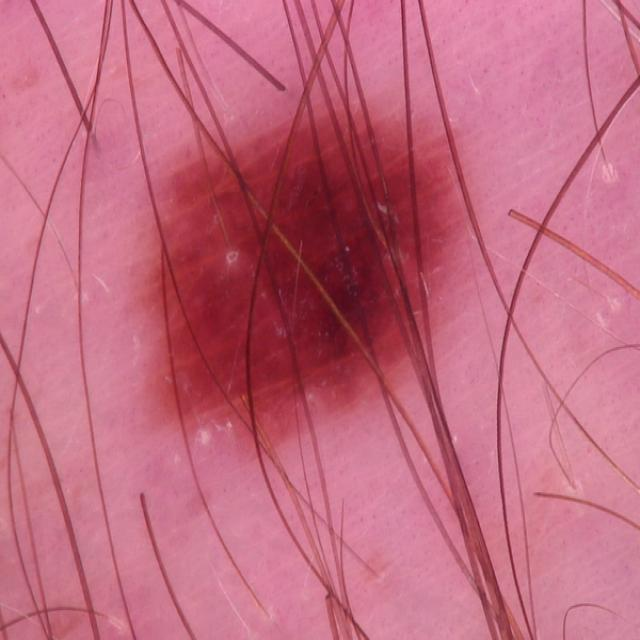NV: (130, 97, 469, 452)
